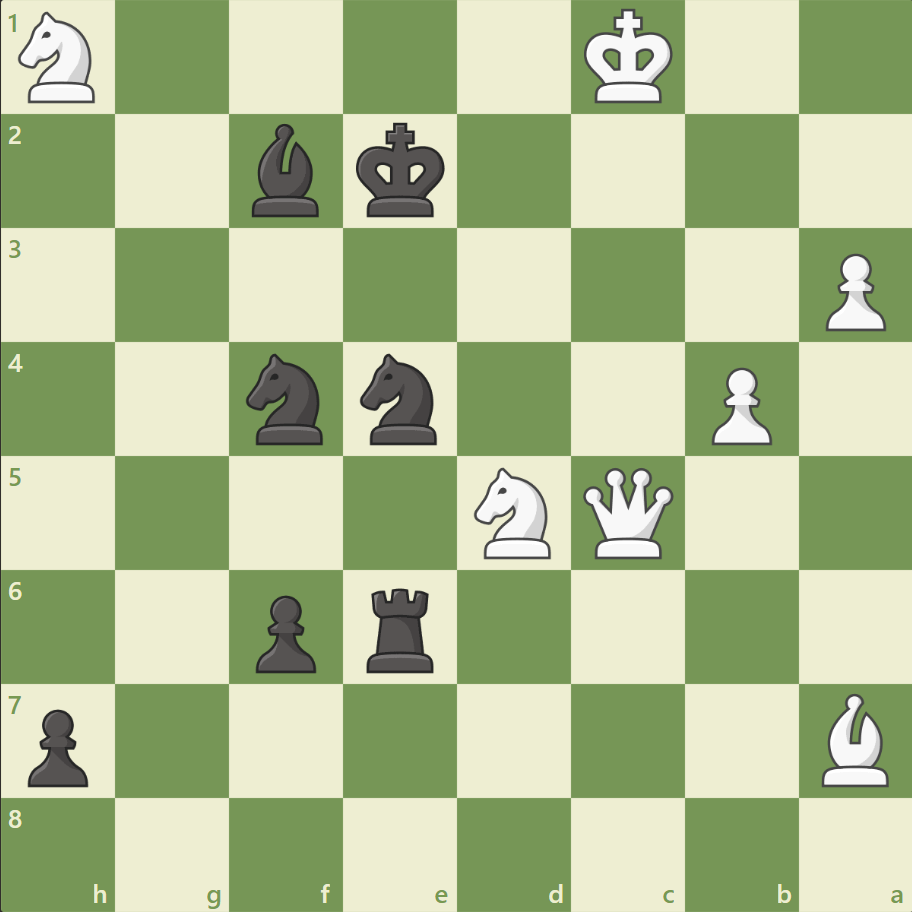B: (812, 687, 896, 790)
K: (579, 4, 679, 112)
N: (465, 461, 562, 564), (11, 7, 108, 110)
P: (701, 359, 776, 450), (815, 246, 889, 337)
Q: (578, 463, 677, 562)
b: (244, 120, 328, 222)
k: (351, 117, 451, 225)
n: (351, 348, 449, 450), (238, 348, 335, 450)
p: (20, 700, 95, 791), (247, 586, 322, 677)
r: (360, 579, 442, 676)
